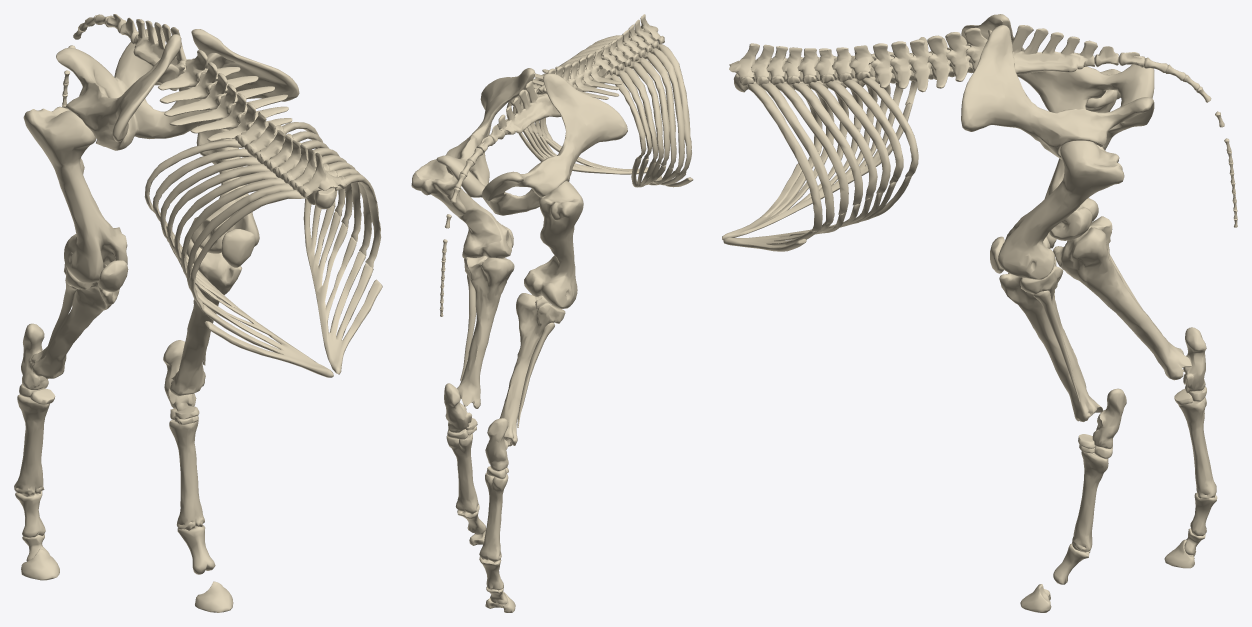
Rendered from HORSEBACK.glb.
3 views of the same model, side by side, from view 1: azimuth 30°, elevation 25°; view 2: azimuth 150°, elevation 25°; view 3: azimuth 270°, elevation 25° (orthographic). The views are drawn at different scales.
Visible parts, largest first — view 1: Object_48, Object_46, Object_8, Object_27, Object_7, Object_9, Object_6, Object_26, Object_42, Object_41, Object_29, Object_24 (+11 smaller); view 2: Object_48, Object_46, Object_43, Object_42, Object_7, Object_8, Object_41, Object_6, Object_9, Object_40, Object_14, Object_28 (+9 smaller); view 3: Object_48, Object_8, Object_43, Object_41, Object_7, Object_42, Object_9, Object_26, Object_40, Object_6, Object_27, Object_14 (+11 smaller).
Part boxes in pixels (<box>): Object_48: <box>56,27,299,150</box>; Object_46: <box>23,106,127,283</box>; Object_8: <box>15,140,371,574</box>; Object_27: <box>303,198,382,374</box>; Object_7: <box>119,17,345,263</box>; Object_9: <box>21,174,381,612</box>; Object_6: <box>19,14,255,419</box>; Object_26: <box>160,213,333,377</box>; Object_42: <box>169,239,241,396</box>; Object_41: <box>31,264,119,378</box>; Object_29: <box>169,419,204,530</box>; Object_24: <box>158,50,274,116</box>; Object_48: <box>436,68,627,215</box>; Object_46: <box>524,181,583,308</box>; Object_43: <box>411,159,511,258</box>; Object_42: <box>457,256,514,408</box>; Object_7: <box>489,53,669,165</box>; Object_8: <box>457,39,684,589</box>; Object_41: <box>488,293,565,446</box>; Object_6: <box>447,73,646,478</box>; Object_9: <box>469,35,691,612</box>; Object_40: <box>497,81,560,136</box>; Object_14: <box>485,24,652,471</box>; Object_28: <box>479,473,508,562</box>; Object_48: <box>961,14,1154,159</box>; Object_8: <box>760,57,1217,584</box>; Object_43: <box>998,140,1124,279</box>; Object_41: <box>1053,216,1191,380</box>; Object_7: <box>808,46,1118,199</box>; Object_42: <box>999,258,1103,421</box>; Object_9: <box>747,58,1205,612</box>; Object_26: <box>722,103,912,240</box>; Object_40: <box>987,25,1097,74</box>; Object_6: <box>871,51,1206,458</box>; Object_27: <box>723,176,911,251</box>; Object_14: <box>766,46,1206,392</box>.
Bounding box in the file's own units: 1.69 × 4.75 × 3.95.
